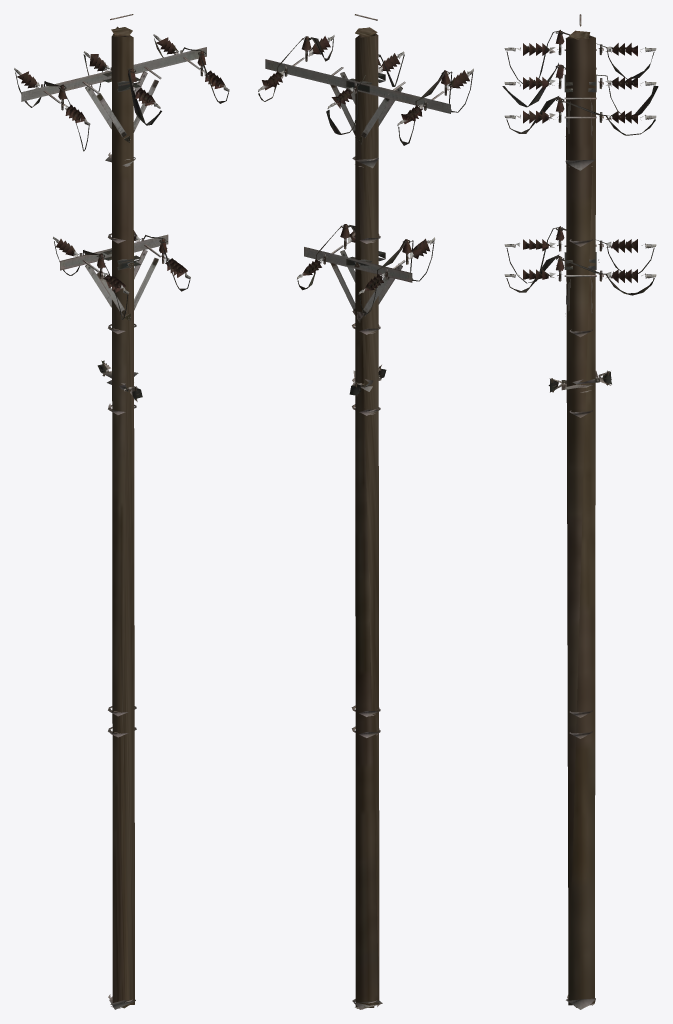
Rendered from pole.glb.
3 renders of one model, left to right at view 1: azimuth 30°, elevation 25°; view 2: azimuth 150°, elevation 25°; view 3: azimuth 270°, elevation 25°, orthographic.
Parts seen in each view (by area): view 1: pole; view 2: pole; view 3: pole.
Part boxes in pixels (x1,y1,x2,y2): pole: (14,14,229,1009); pole: (258,14,473,1009); pole: (502,14,658,1009).
Bounding box in the file's own units: 1.2 × 6.1 × 0.879.
Materials: 2 (2 with a texture image).
